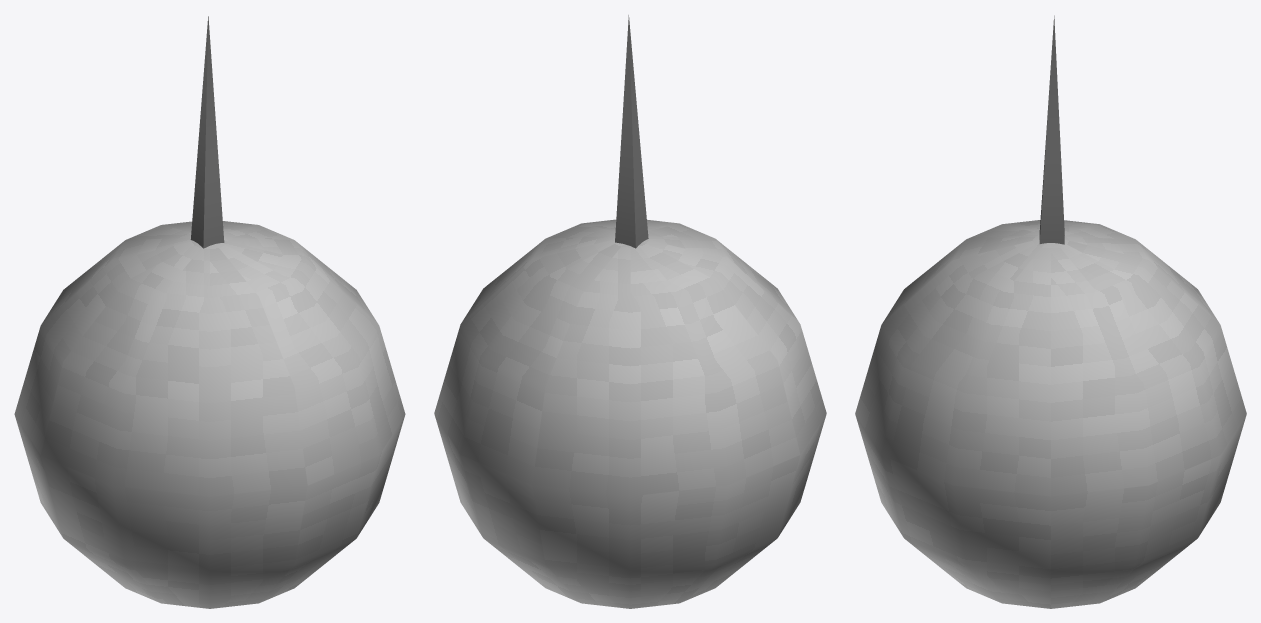
File: explosivebait.obj
3 views of the same model, side by side, from view 1: azimuth 30°, elevation 25°; view 2: azimuth 150°, elevation 25°; view 3: azimuth 270°, elevation 25° (orthographic).
Parts seen in each view (by area): view 1: Sphere02, Box01; view 2: Sphere02, Box01; view 3: Sphere02, Box01.
Boxes of the visible parts, left/top/right/bottom form: Sphere02: left=14, top=221, right=405, bottom=608; Box01: left=190, top=16, right=224, bottom=248; Sphere02: left=434, top=219, right=826, bottom=608; Box01: left=615, top=15, right=648, bottom=248; Sphere02: left=855, top=220, right=1246, bottom=608; Box01: left=1039, top=15, right=1064, bottom=244.
Size of the model in its own units: 7.5 by 12.19 by 7.5.
